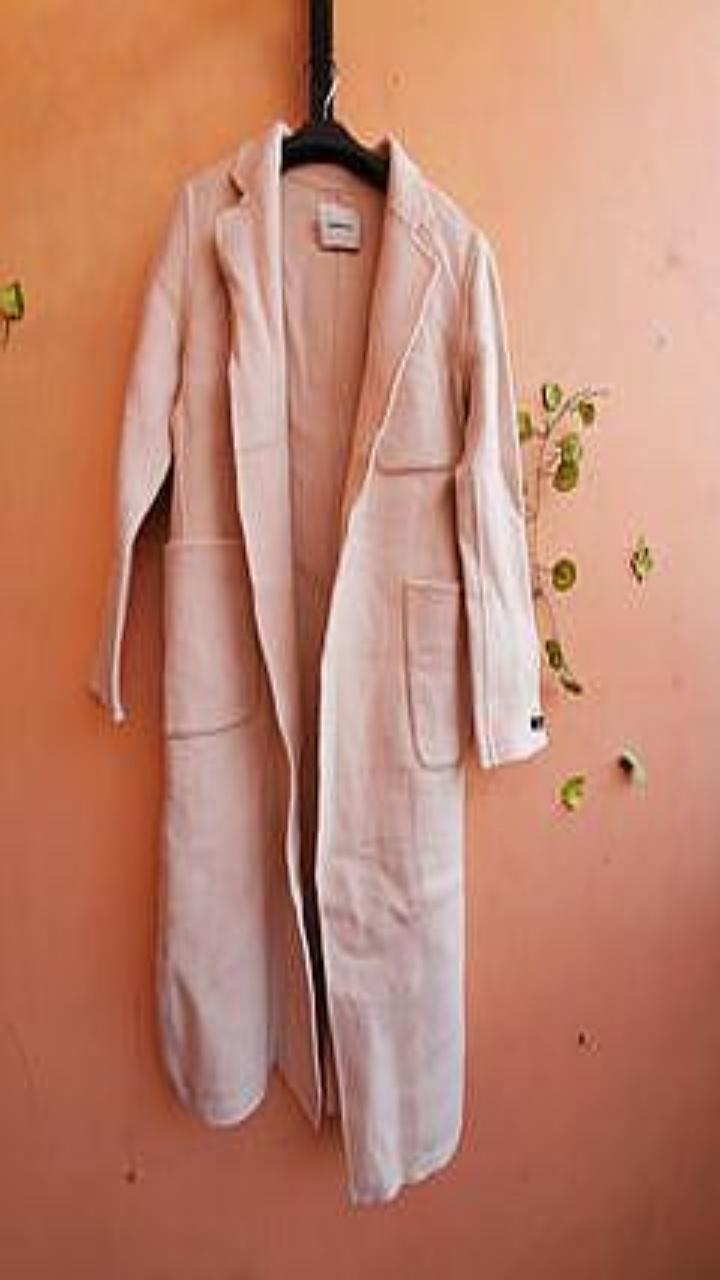Coat: (89, 121, 547, 1202)
